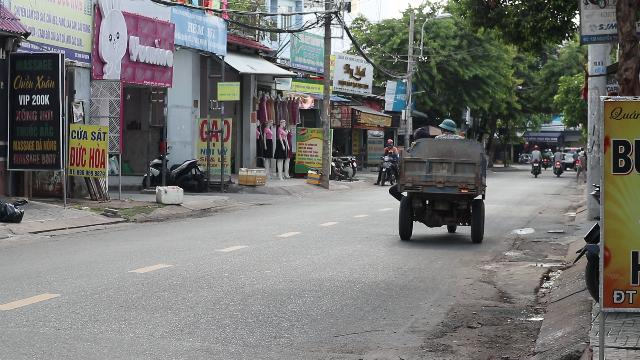helmet: (438, 118, 457, 134)
motorcyclist: (390, 118, 490, 246)
